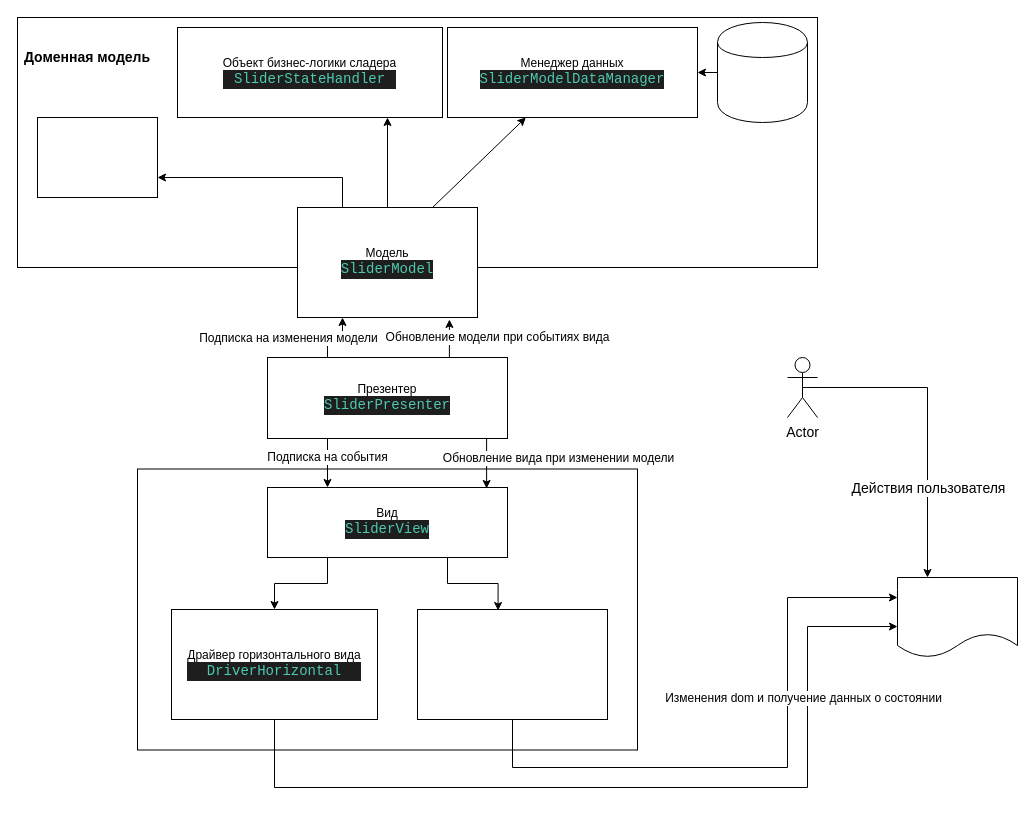
Some shapes in this 1035 by 813 pixel diagram are drawn without their labels. The shapes that lost their labels are listed below. From the top down, each one's centre as x and y in pixels, then its label:
At point 762,72: "Данные доменной модели".
At point 97,157: "Библиотека функций общего назначения".
At point 957,617: "html + css".
At point 512,664: "Драйвер вертикального вида DriverVertical".
